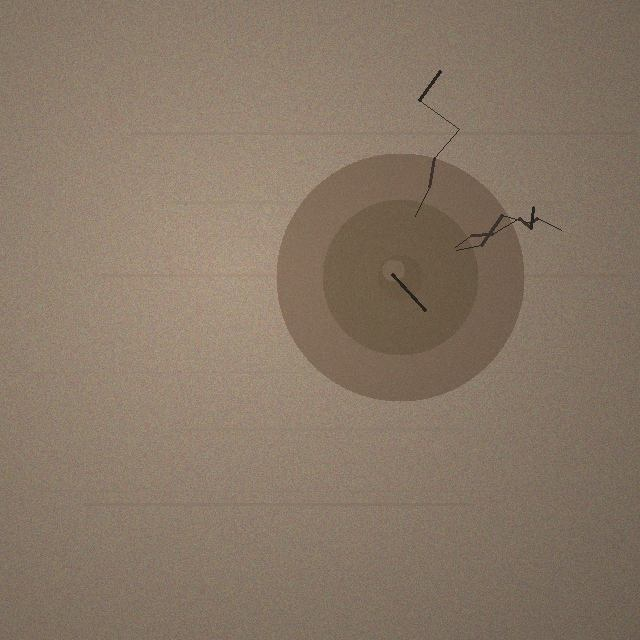crack: (276, 153, 524, 401)
